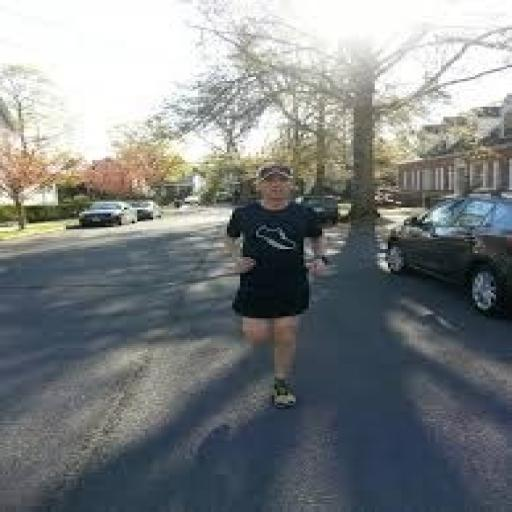running: (219, 160, 335, 411)
